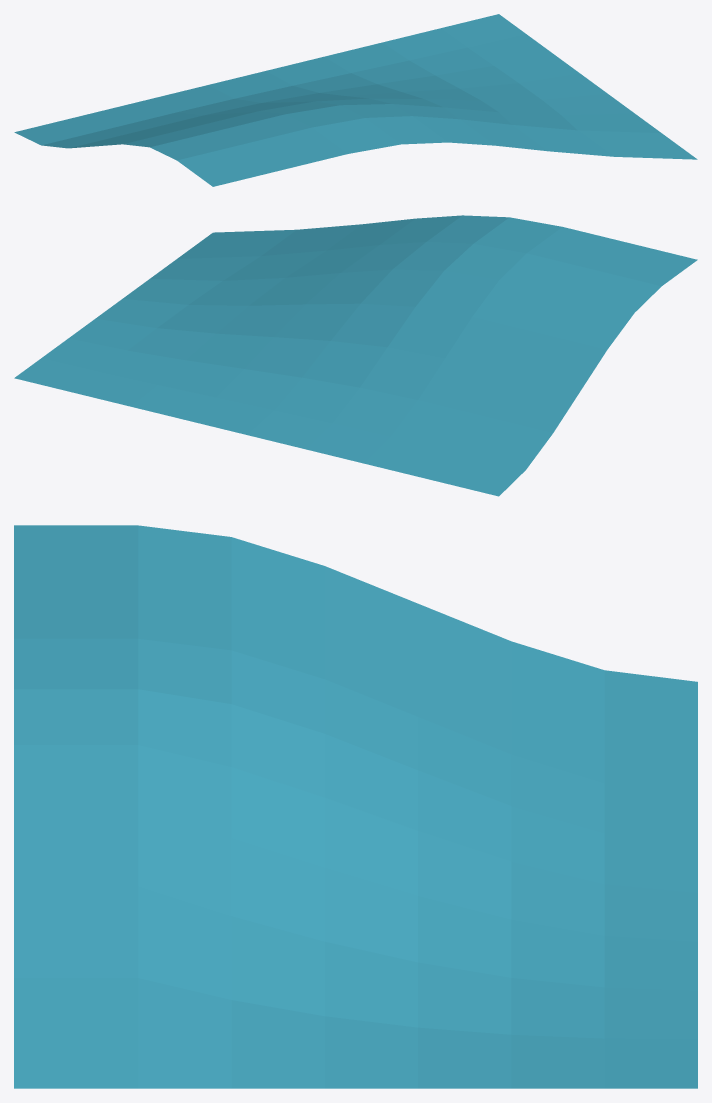
Rendered from SM_snow_dune_02.fbx.
The picture shows the model from 3 angles, top to bottom: view 1: azimuth 30°, elevation 25°; view 2: azimuth 150°, elevation 25°; view 3: azimuth 270°, elevation 25°; orthographic projection. The views are drawn at different scales.
Parts seen in each view (by area): view 1: snow_dune_02; view 2: snow_dune_02; view 3: snow_dune_02.
Part boxes in pixels (x1,y1,x2,y2): snow_dune_02: (14,14,697,186); snow_dune_02: (14,215,697,496); snow_dune_02: (14,525,697,1088).
Size of the model in its own units: 10760 by 1930 by 7648.
